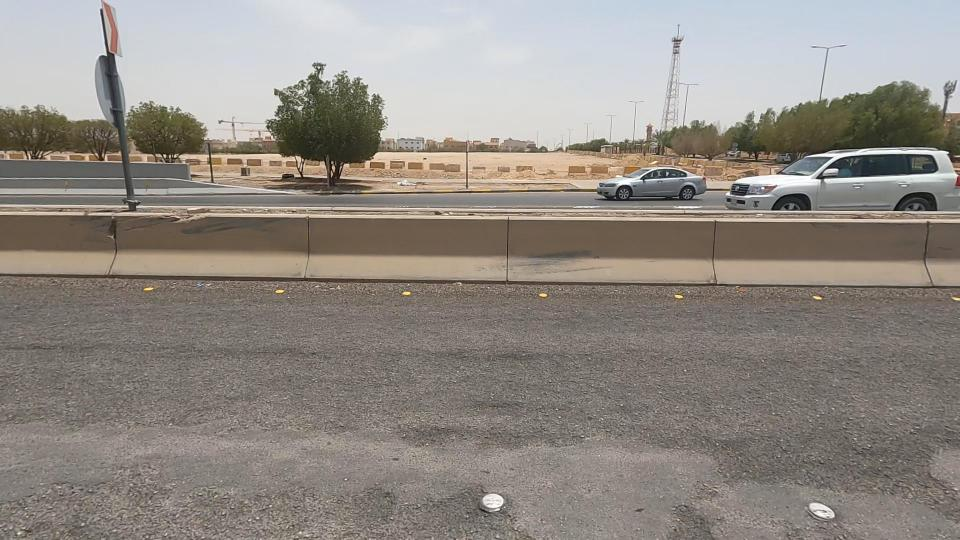POTHOLES: (604, 374, 937, 540), (329, 367, 543, 508)
